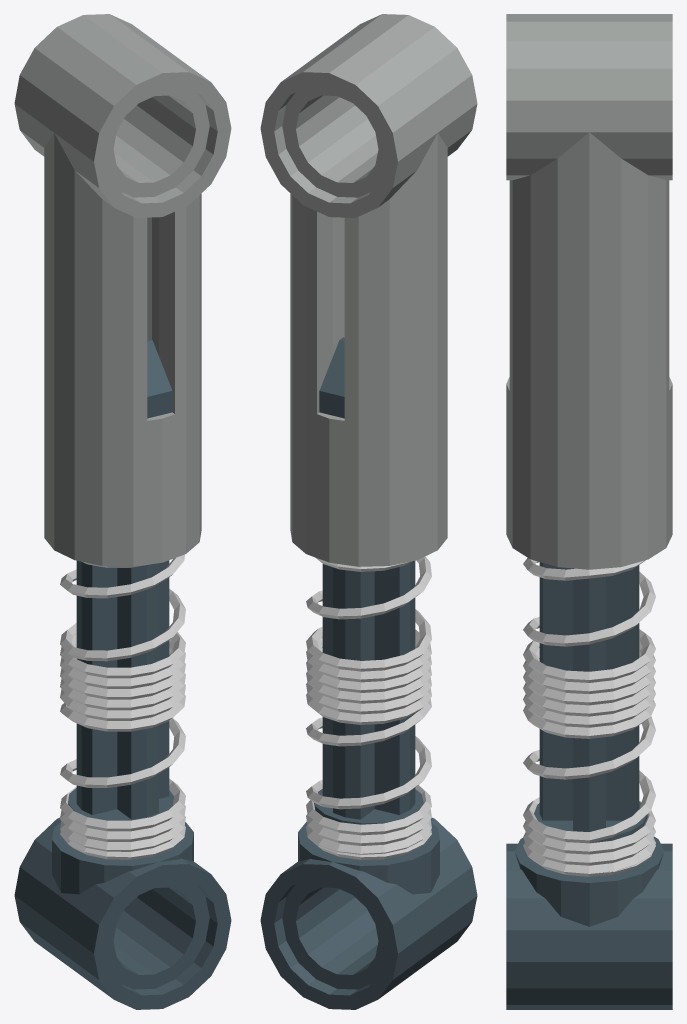
3 views of the same model, side by side, from view 1: azimuth 30°, elevation 25°; view 2: azimuth 150°, elevation 25°; view 3: azimuth 270°, elevation 25° (orthographic). The views are drawn at different scales.
Visible parts, largest first — view 1: world; view 2: world; view 3: world.
Boxes of the visible parts, x1,y1,x2,y2 form: world: [14, 14, 231, 1009]; world: [260, 14, 477, 1009]; world: [506, 14, 672, 1009].
Bounding box in the file's own units: 0.008 × 0.052 × 0.008.
